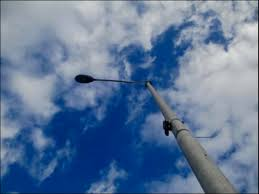light_pole: (132, 68, 240, 194)
